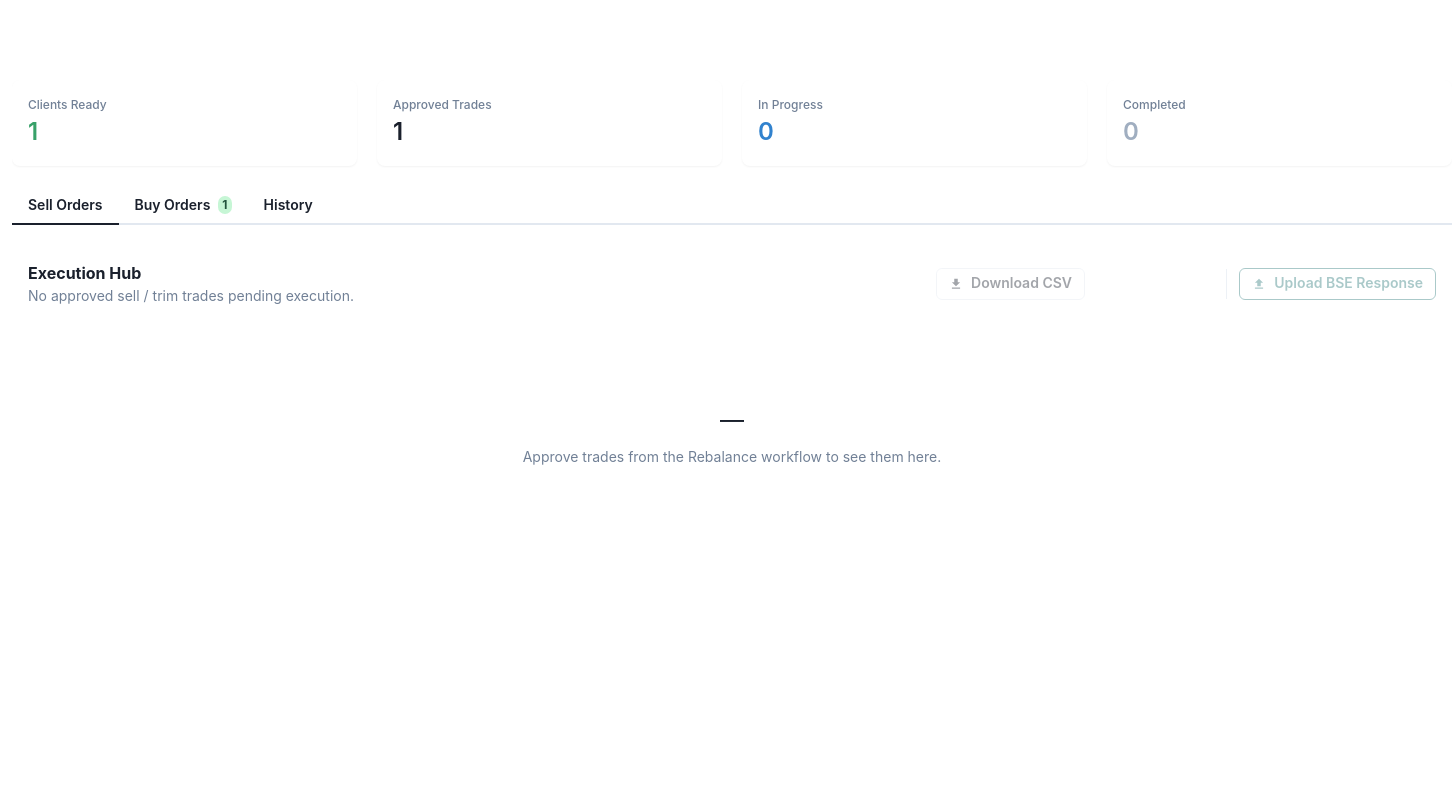
Test case: BseOrderFile — GroupedTradesList section split › [GroupedTradesList] future-dated trades land in Upcoming section
The image size is (1452, 810).
Click the tab with test id "tab-buy-orders". click: [183, 206]
box: [118,186,248,225]
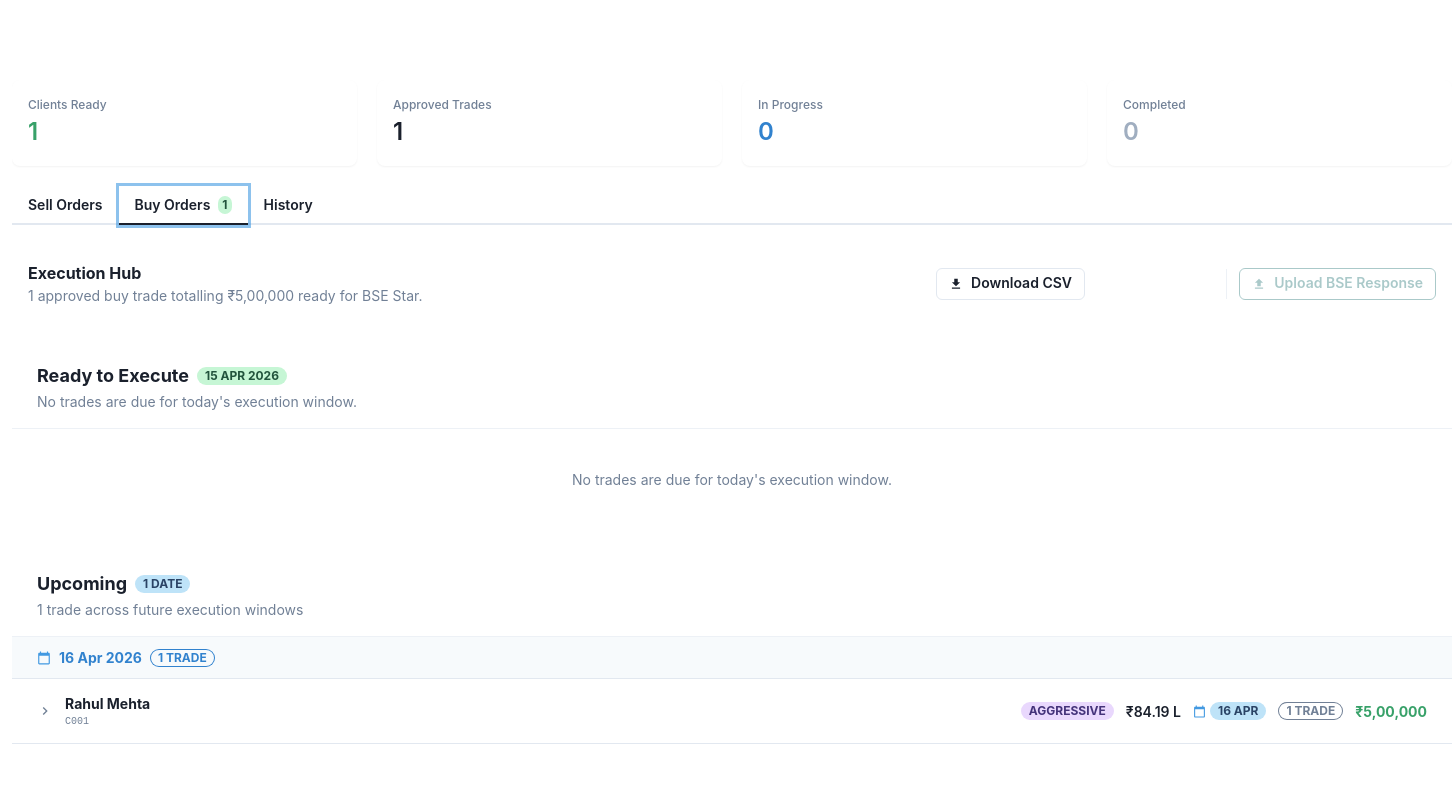
Check: the element with test id "upcoming-section" is shown, box [12,550,1451,744]
